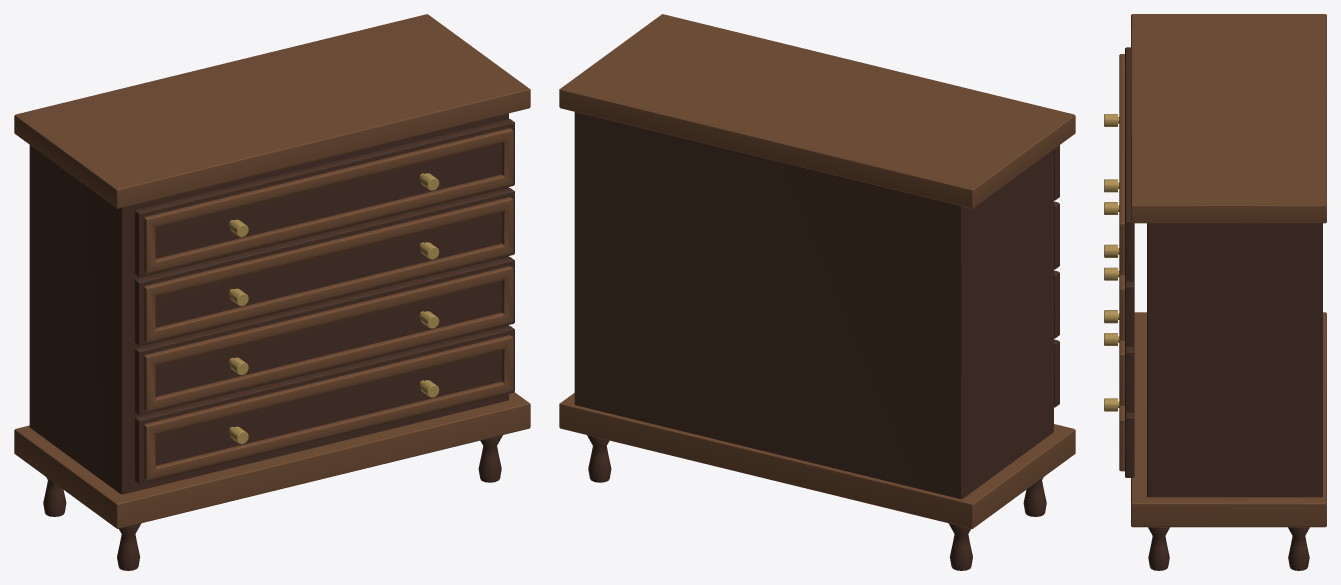
File: rpg-mansion-dresser-01.glb
The picture shows the model from 3 angles, left to right: view 1: azimuth 30°, elevation 25°; view 2: azimuth 150°, elevation 25°; view 3: azimuth 270°, elevation 25°; orthographic projection. The views are drawn at different scales.
Visible parts, largest first — view 1: rpg-mansion-dresser-01; view 2: rpg-mansion-dresser-01; view 3: rpg-mansion-dresser-01.
Part boxes in pixels (bbox=[...]): rpg-mansion-dresser-01: bbox=[14, 14, 530, 570]; rpg-mansion-dresser-01: bbox=[559, 14, 1075, 570]; rpg-mansion-dresser-01: bbox=[1104, 14, 1326, 570].
Bounding box in the file's own units: 1.1 × 1 × 0.54.
